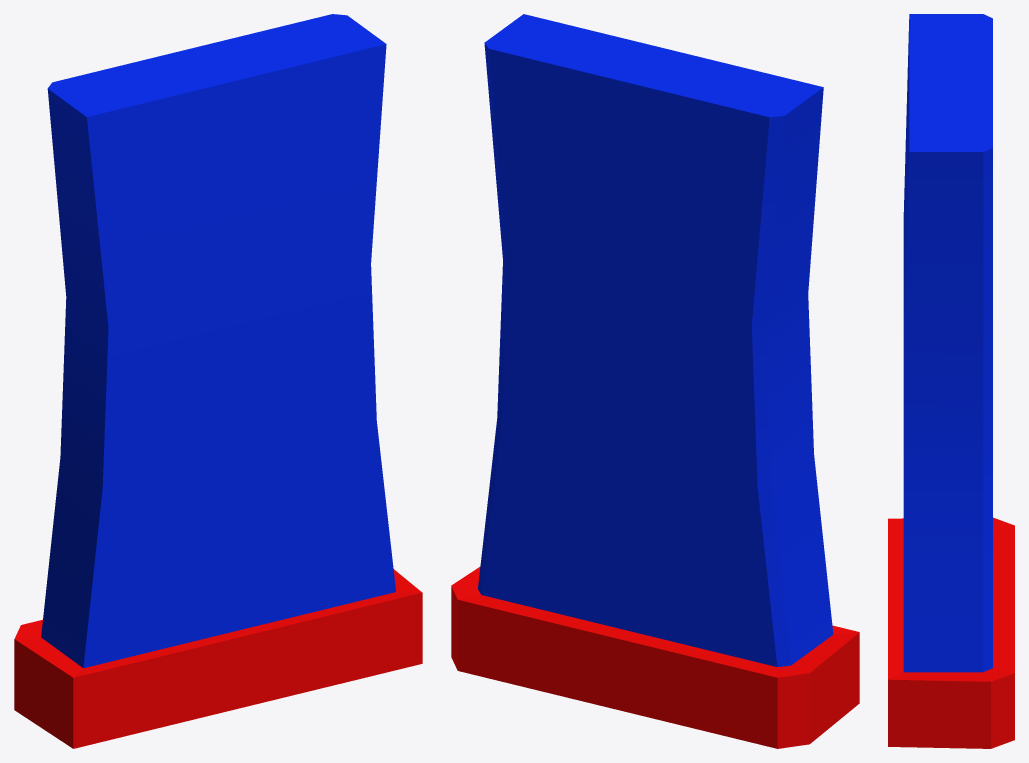
File: Statue.fbx
3 views of the same model, side by side, from view 1: azimuth 30°, elevation 25°; view 2: azimuth 150°, elevation 25°; view 3: azimuth 270°, elevation 25° (orthographic). The views are drawn at different scales.
Visible parts, largest first — view 1: Statue; view 2: Statue; view 3: Statue.
Boxes of the visible parts, x1,y1,x2,y2 form: Statue: [14, 14, 422, 748]; Statue: [451, 14, 859, 748]; Statue: [888, 14, 1014, 748].
Size of the model in its own units: 174 by 286 by 56.45.
